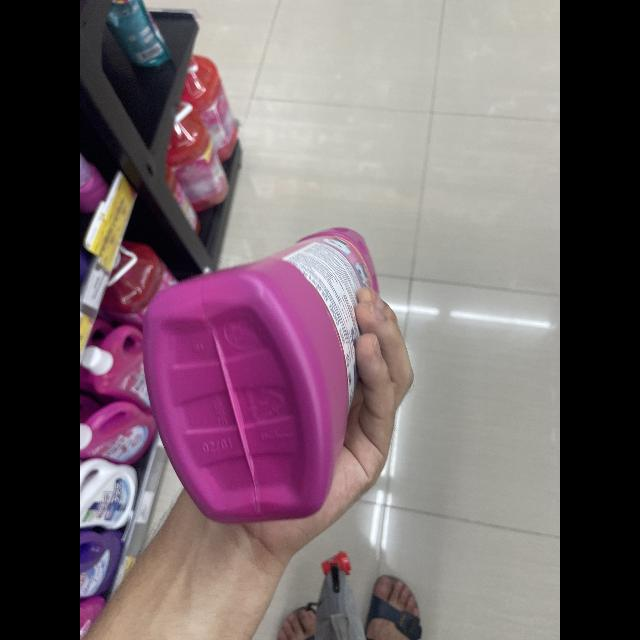chemical_plastic_bottle: (136, 221, 390, 525)
